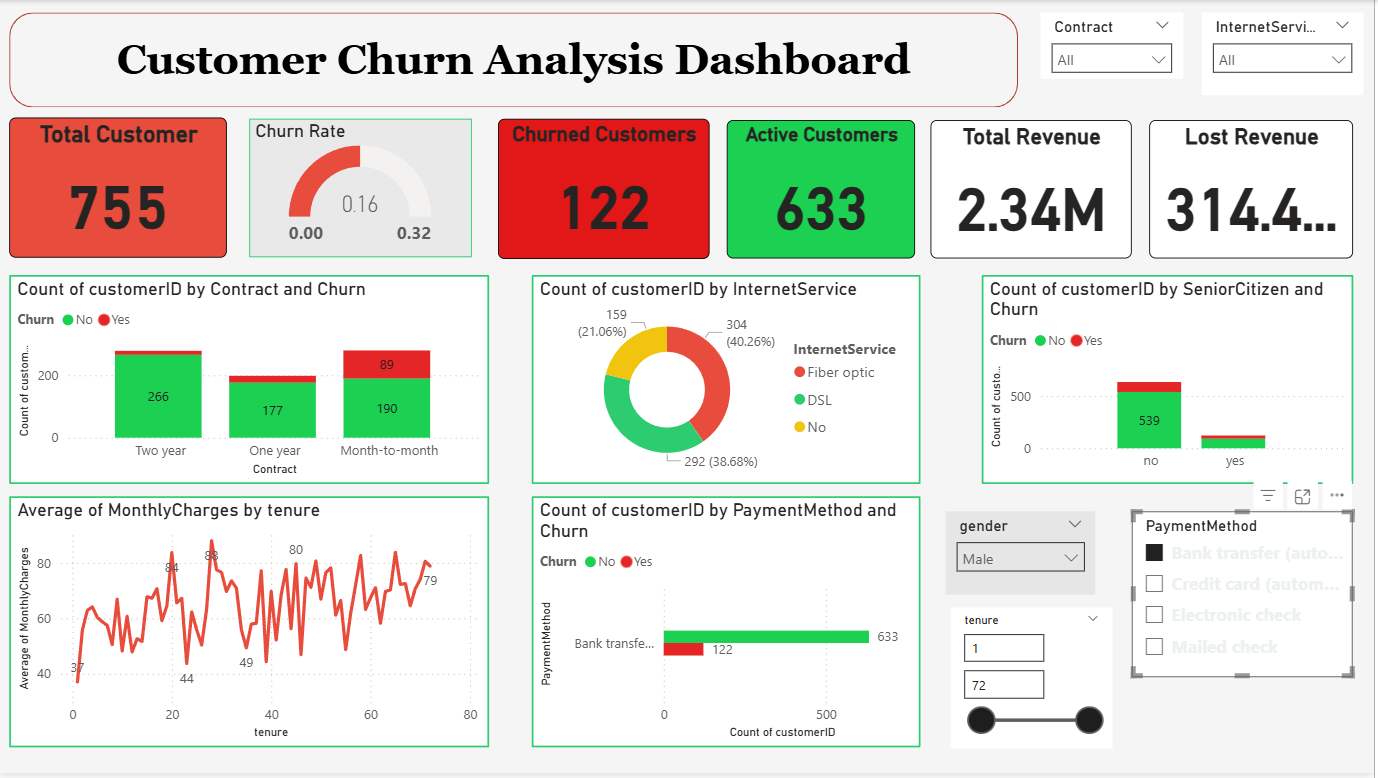

This screenshot's page, from the dashboard's own definition file:
{"tool":"powerbi","page":{"name":"Page 1","canvas":[1280,720],"ordinal":0},"visuals":[{"type":"card","title":"Total Customer ","fields":{"Values":["WA_Fn-UseC_-Telco-Customer-Churn (1).Total Customers"]},"box":[10.5,109.3,202.3,130.2],"z":0},{"type":"card","title":"Churned Customers","fields":{"Values":["WA_Fn-UseC_-Telco-Customer-Churn (1).Churned Customers"]},"box":[465.1,110.5,196.5,130.2],"z":1000},{"type":"card","title":"Active Customers","fields":{"Values":["WA_Fn-UseC_-Telco-Customer-Churn (1).Active Customers"]},"box":[677.9,111.6,175.6,129.1],"z":2000},{"type":"gauge","fields":{"Y":["WA_Fn-UseC_-Telco-Customer-Churn (1).Churn Rate"]},"box":[233.7,110.5,207,129.1],"z":3000},{"type":"card","title":"Total Revenue","fields":{"Values":["WA_Fn-UseC_-Telco-Customer-Churn (1).Total Revenue"]},"box":[867.4,111.6,187.2,129.1],"z":4000},{"type":"card","title":"Lost Revenue","fields":{"Values":["WA_Fn-UseC_-Telco-Customer-Churn (1).Lost Revenue"]},"box":[1070.9,111.6,189.5,129.1],"z":5000},{"type":"columnChart","fields":{"Category":["WA_Fn-UseC_-Telco-Customer-Churn (1).Contract"],"Series":["WA_Fn-UseC_-Telco-Customer-Churn (1).Churn"],"Y":["CountNonNull(WA_Fn-UseC_-Telco-Customer-Churn (1).customerID)"]},"box":[10.5,255.8,446.5,194.2],"z":6000},{"type":"donutChart","fields":{"Category":["WA_Fn-UseC_-Telco-Customer-Churn (1).InternetService"],"Y":["CountNonNull(WA_Fn-UseC_-Telco-Customer-Churn (1).customerID)"]},"box":[496.5,255.8,361.6,194.2],"z":7000},{"type":"lineChart","fields":{"Category":["WA_Fn-UseC_-Telco-Customer-Churn (1).tenure"],"Y":["Avg(WA_Fn-UseC_-Telco-Customer-Churn (1).MonthlyCharges)"]},"box":[10.5,461.6,446.5,233.7],"z":8000},{"type":"clusteredBarChart","fields":{"Category":["WA_Fn-UseC_-Telco-Customer-Churn (1).PaymentMethod"],"Y":["CountNonNull(WA_Fn-UseC_-Telco-Customer-Churn (1).customerID)"],"Series":["WA_Fn-UseC_-Telco-Customer-Churn (1).Churn"]},"box":[496.5,461.6,361.6,233.7],"z":9000},{"type":"columnChart","fields":{"Category":["WA_Fn-UseC_-Telco-Customer-Churn (1).SeniorCitizen"],"Y":["CountNonNull(WA_Fn-UseC_-Telco-Customer-Churn (1).customerID)"],"Series":["WA_Fn-UseC_-Telco-Customer-Churn (1).Churn"]},"box":[915.1,255.8,345.3,194.2],"z":10000},{"type":"slicer","fields":{"Values":["WA_Fn-UseC_-Telco-Customer-Churn (1).gender"]},"box":[881.4,475.6,139.5,77.9],"z":11000},{"type":"slicer","fields":{"Values":["WA_Fn-UseC_-Telco-Customer-Churn (1).Contract"]},"box":[969.8,11.6,132.6,61.6],"z":12000},{"type":"slicer","fields":{"Values":["WA_Fn-UseC_-Telco-Customer-Churn (1).InternetService"]},"box":[1119.8,11.6,150,76.7],"z":13000},{"type":"shape","box":[10.5,11.6,938.4,88.4],"z":14000},{"type":"slicer","fields":{"Values":["WA_Fn-UseC_-Telco-Customer-Churn (1).PaymentMethod"]},"box":[1054.7,475.6,205.8,154.7],"z":15000},{"type":"slicer","fields":{"Values":["WA_Fn-UseC_-Telco-Customer-Churn (1).tenure"]},"box":[886,565.1,150,130.2],"z":16000}]}

Visuals, with their boxes in screenshot pixels (x1, y1, x2, y2), scaled from the page's 1280x720 canvas onto the 1378x778 screenshot:
"Total Customer " card: (11, 118, 229, 259)
"Churned Customers" card: (501, 119, 712, 260)
"Active Customers" card: (730, 121, 919, 260)
gauge - WA_Fn-UseC_-Telco-Customer-Churn (1).Churn Rate: (252, 119, 474, 259)
"Total Revenue" card: (934, 121, 1135, 260)
"Lost Revenue" card: (1153, 121, 1357, 260)
columnChart - WA_Fn-UseC_-Telco-Customer-Churn (1).Contract x WA_Fn-UseC_-Telco-Customer-Churn (1).Churn: (11, 276, 492, 486)
donutChart - WA_Fn-UseC_-Telco-Customer-Churn (1).InternetService x CountNonNull(WA_Fn-UseC_-Telco-Customer-Churn (1).customerID): (535, 276, 924, 486)
lineChart - WA_Fn-UseC_-Telco-Customer-Churn (1).tenure x Avg(WA_Fn-UseC_-Telco-Customer-Churn (1).MonthlyCharges): (11, 499, 492, 751)
clusteredBarChart - WA_Fn-UseC_-Telco-Customer-Churn (1).PaymentMethod x CountNonNull(WA_Fn-UseC_-Telco-Customer-Churn (1).customerID): (535, 499, 924, 751)
columnChart - WA_Fn-UseC_-Telco-Customer-Churn (1).SeniorCitizen x CountNonNull(WA_Fn-UseC_-Telco-Customer-Churn (1).customerID): (985, 276, 1357, 486)
slicer - WA_Fn-UseC_-Telco-Customer-Churn (1).gender: (949, 514, 1099, 598)
slicer - WA_Fn-UseC_-Telco-Customer-Churn (1).Contract: (1044, 13, 1187, 79)
slicer - WA_Fn-UseC_-Telco-Customer-Churn (1).InternetService: (1206, 13, 1367, 95)
shape: (11, 13, 1022, 108)
slicer - WA_Fn-UseC_-Telco-Customer-Churn (1).PaymentMethod: (1135, 514, 1357, 681)
slicer - WA_Fn-UseC_-Telco-Customer-Churn (1).tenure: (954, 611, 1115, 751)
